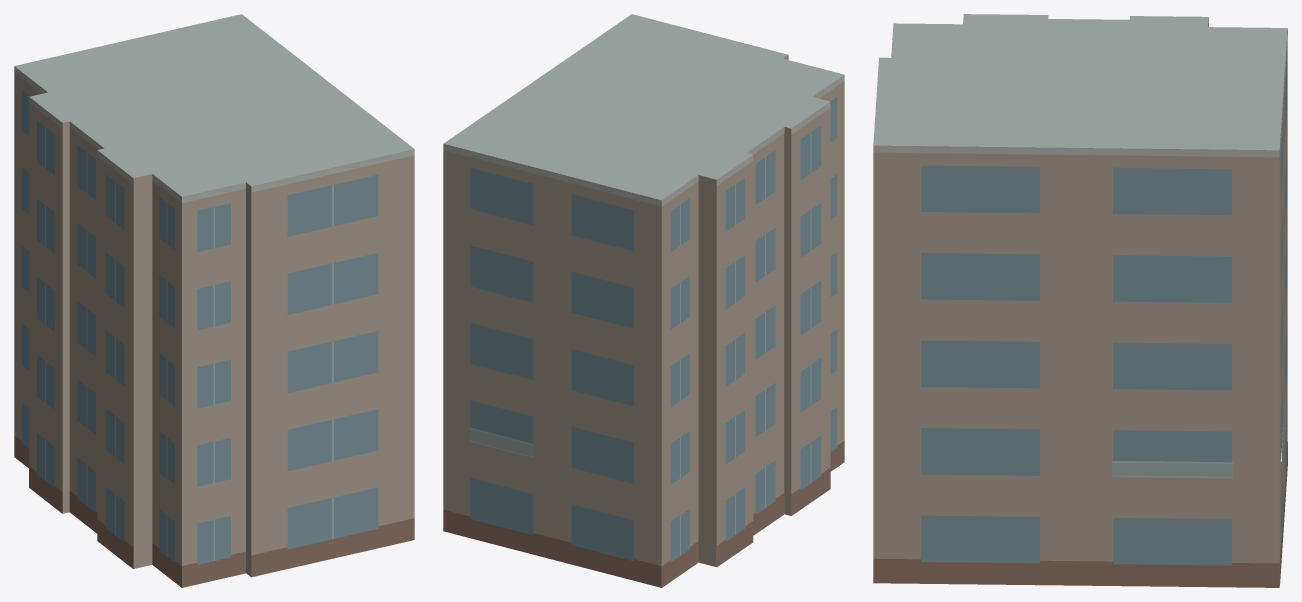
File: survey-upis-33041750.glb
The picture shows the model from 3 angles, left to right: view 1: azimuth 30°, elevation 25°; view 2: azimuth 150°, elevation 25°; view 3: azimuth 270°, elevation 25°; orthographic projection. The views are drawn at different scales.
Visible parts, largest first — view 1: survey-upis-33041750.tmp; view 2: survey-upis-33041750.tmp; view 3: survey-upis-33041750.tmp.
Part boxes in pixels (x1,y1,x2,y2): survey-upis-33041750.tmp: [14, 14, 414, 587]; survey-upis-33041750.tmp: [443, 14, 844, 587]; survey-upis-33041750.tmp: [873, 14, 1287, 587].
Size of the model in its own units: 10.13 by 15.15 by 13.01.
